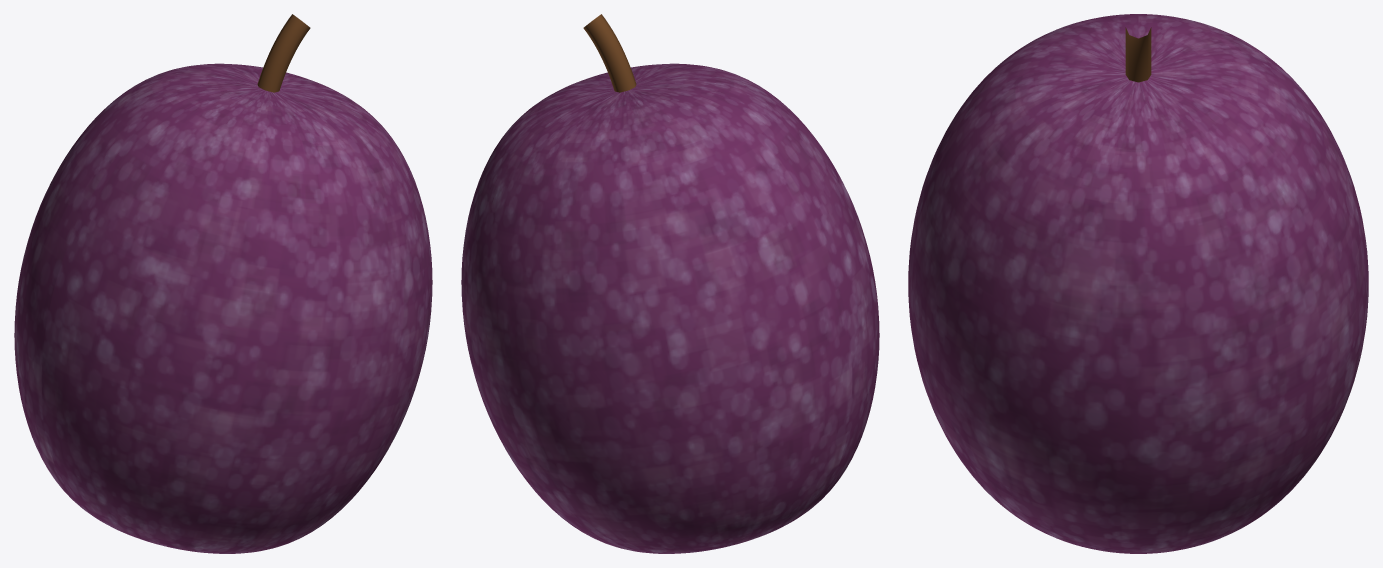
Rendered from plum.glb.
3 views of the same model, side by side, from view 1: azimuth 30°, elevation 25°; view 2: azimuth 150°, elevation 25°; view 3: azimuth 270°, elevation 25° (orthographic). The views are drawn at different scales.
Bounding box in the file's own units: 0.1217 × 0.1587 × 0.1196.
Materials: 2 (1 with a texture image).
